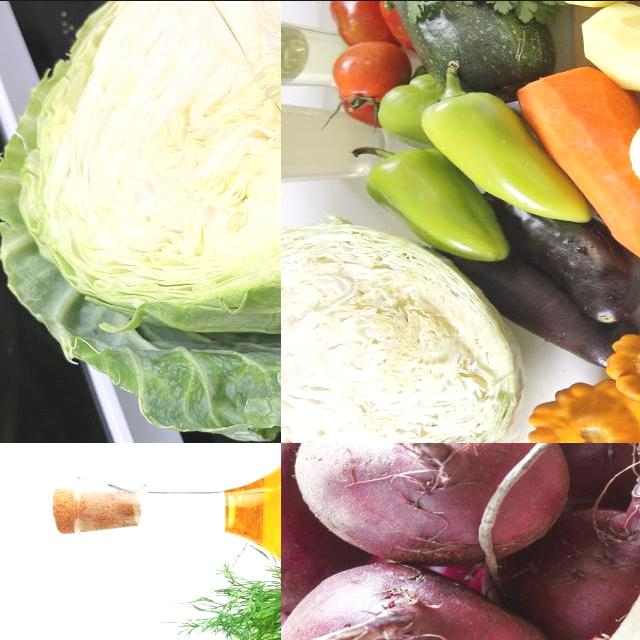beet: (297, 443, 570, 561), (282, 566, 540, 640), (508, 510, 640, 634)
bell_pepper: (349, 140, 461, 228), (450, 76, 517, 178)
cabbage: (1, 1, 282, 443), (282, 226, 488, 443)
carrot: (545, 76, 630, 164)
potato: (577, 18, 640, 89)
tomato: (328, 41, 412, 107), (333, 1, 381, 43)
zucchini: (415, 1, 531, 79)
